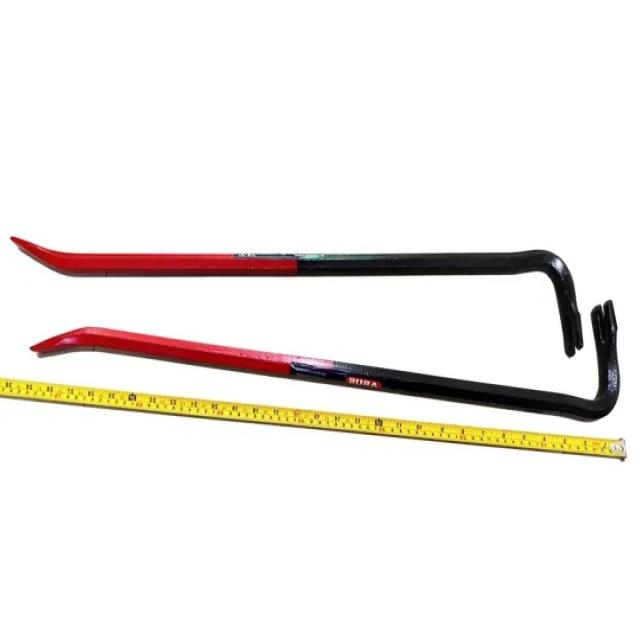Linggis: (30, 299, 624, 423)
